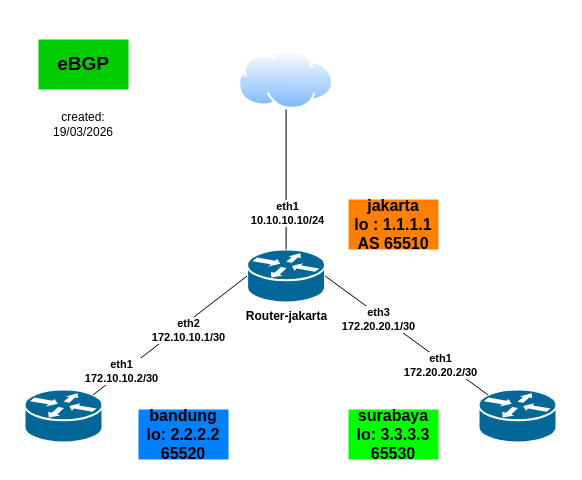
This 582x480 diagram has some shape labels left out. The shapes that lost their labels are listed below. From the top down, each one's centre as x and y in pixels, then its label:
(x=285, y=79): virbr1 10.10.10.1/24
(x=63, y=415): Router-bandung
(x=517, y=415): Router-surabaya
